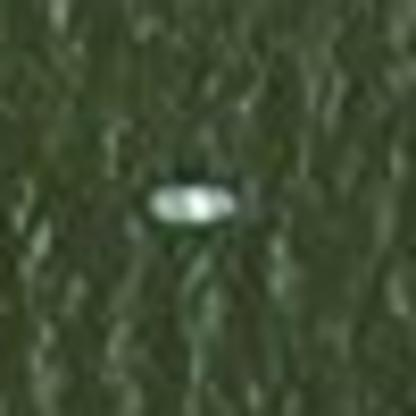ship: (126, 165, 250, 236)
